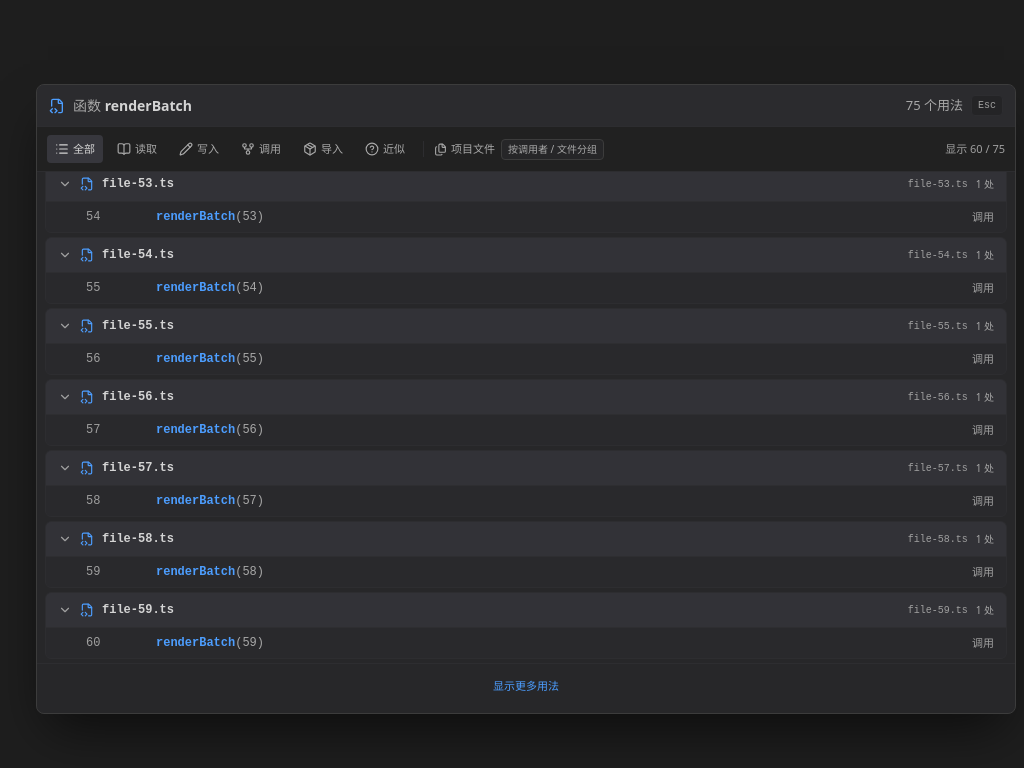
Test: DefinitionPicker › renders large usage results in lightweight batches
(page scrolled)
expect the text "项目文件" is shown: met, box left=434, top=141, right=495, bottom=157
expect the text "显示 60 / 75" is shown: met, box left=945, top=141, right=1005, bottom=157
What coordinates should you click on to do the following:
click the button "显示更多用法"
I would click on:
 (526, 686)
Its box is left=481, top=672, right=571, bottom=700.
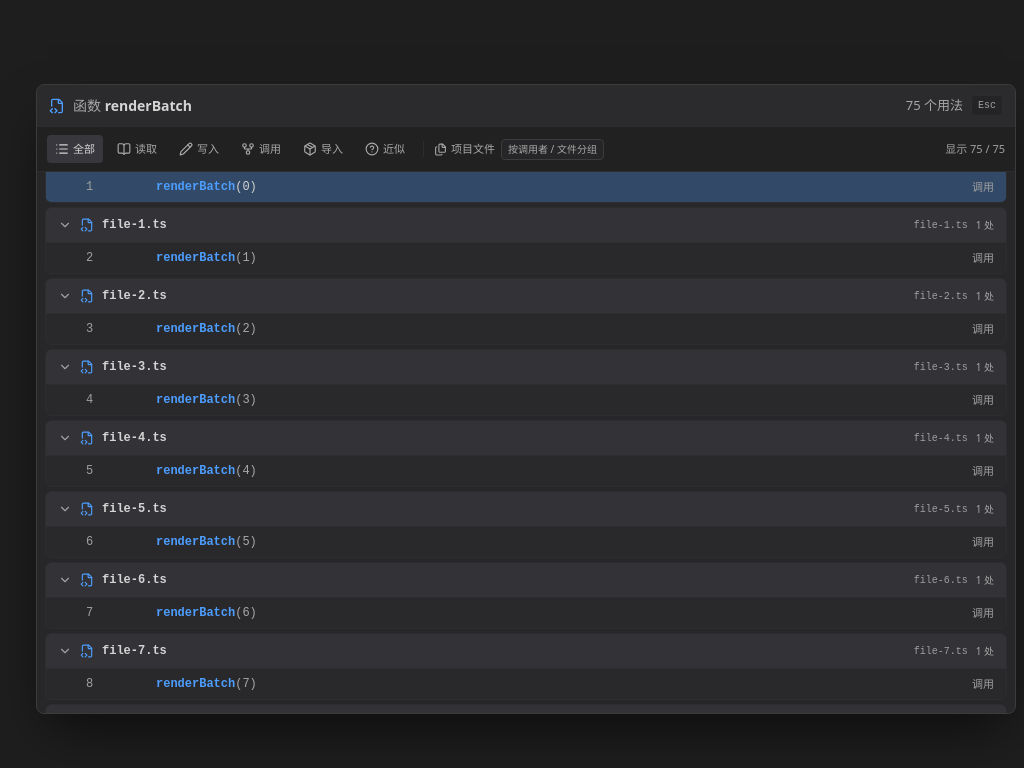
expect the text "显示 75 / 75" is shown: met, box left=945, top=141, right=1005, bottom=157
expect the button "显示更多用法" is gone: met
